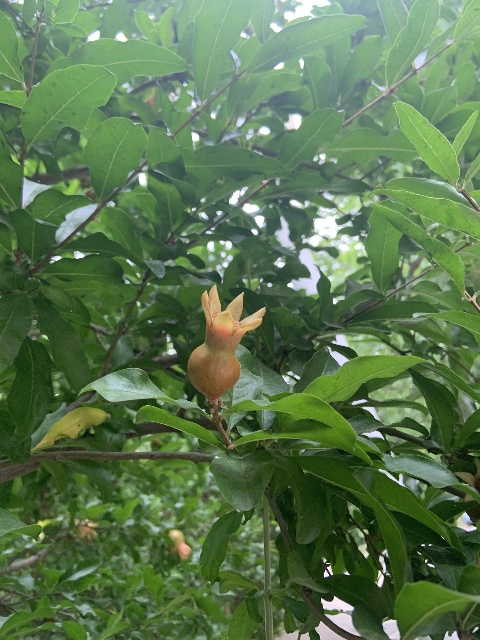early-fruit: (187, 284, 266, 397)
mid-growth: (166, 529, 192, 562)
